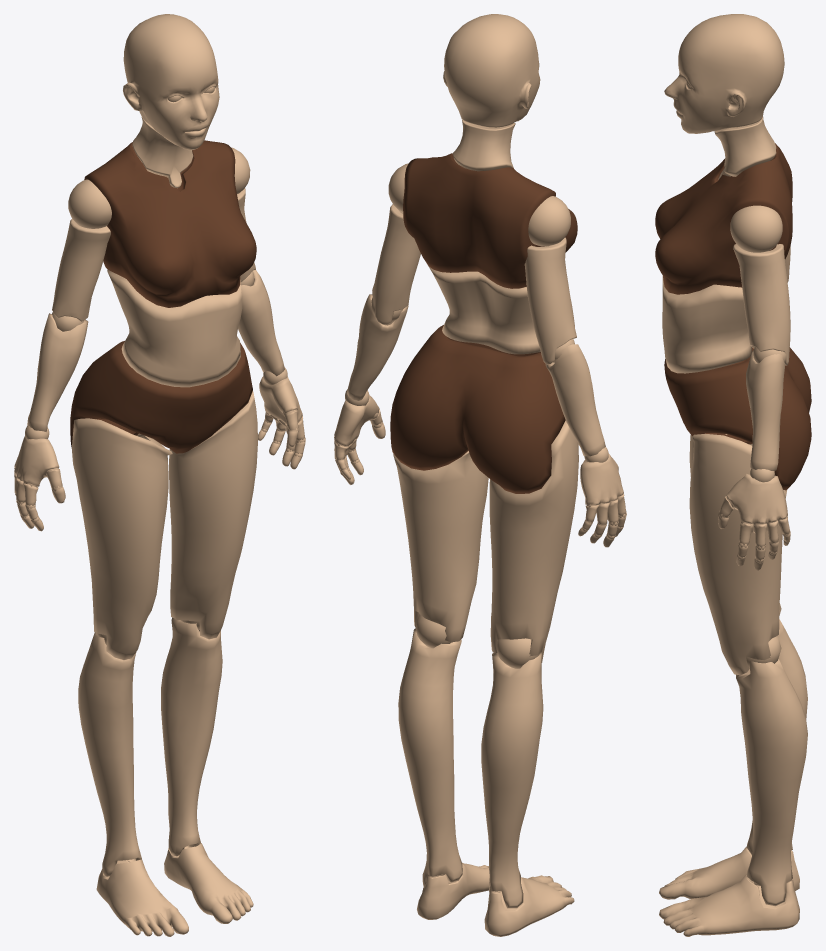
The model's file is paciente-bracos-laterais.glb.
3 views of the same model, side by side, from view 1: azimuth 30°, elevation 25°; view 2: azimuth 150°, elevation 25°; view 3: azimuth 270°, elevation 25° (orthographic).
Parts seen in each view (by area): view 1: bodychan-thighs.001, bodychan-shins.001, bodychan-torso.001, bodychan-hips.001, bodychan-head.001, bodychan-tummy.001, bodychan-feet.001, bodychan-upperarms.arm.R, bodychan-forearms.arm.R, bodychan-forearms.arm.L, bodychan-neck.001, bodychan-hands.arm.R (+2 smaller); view 2: bodychan-thighs.001, bodychan-shins.001, bodychan-hips.001, bodychan-torso.001, bodychan-head.001, bodychan-tummy.001, bodychan-upperarms.arm.R, bodychan-feet.001, bodychan-upperarms.arm.L, bodychan-forearms.arm.R, bodychan-forearms.arm.L, bodychan-neck.001 (+2 smaller); view 3: bodychan-thighs.001, bodychan-shins.001, bodychan-torso.001, bodychan-head.001, bodychan-hips.001, bodychan-feet.001, bodychan-tummy.001, bodychan-upperarms.arm.L, bodychan-forearms.arm.L, bodychan-hands.arm.L, bodychan-neck.001.
Part boxes in pixels (bbox=[...]): bodychan-thighs.001: bbox=[71, 391, 257, 659]; bodychan-shins.001: bbox=[78, 617, 222, 876]; bodychan-torso.001: bbox=[84, 140, 256, 307]; bodychan-hips.001: bbox=[70, 341, 252, 453]; bodychan-head.001: bbox=[123, 14, 219, 150]; bodychan-tummy.001: bbox=[107, 269, 242, 387]; bodychan-feet.001: bbox=[96, 843, 253, 936]; bodychan-upperarms.arm.R: bbox=[52, 179, 111, 321]; bodychan-forearms.arm.R: bbox=[27, 312, 88, 431]; bodychan-forearms.arm.L: bbox=[238, 270, 284, 376]; bodychan-neck.001: bbox=[132, 117, 193, 188]; bodychan-hands.arm.R: bbox=[14, 425, 59, 486]; bodychan-thighs.001: bbox=[393, 420, 578, 668]; bodychan-shins.001: bbox=[398, 628, 543, 908]; bodychan-hips.001: bbox=[390, 325, 565, 493]; bodychan-torso.001: bbox=[403, 153, 577, 288]; bodychan-head.001: bbox=[443, 14, 540, 127]; bodychan-tummy.001: bbox=[428, 266, 540, 354]; bodychan-upperarms.arm.R: bbox=[524, 196, 576, 364]; bodychan-feet.001: bbox=[417, 862, 574, 936]; bodychan-upperarms.arm.L: bbox=[372, 163, 420, 324]; bodychan-forearms.arm.R: bbox=[545, 339, 605, 456]; bodychan-forearms.arm.L: bbox=[347, 294, 408, 400]; bodychan-neck.001: bbox=[452, 120, 515, 171]; bodychan-thighs.001: bbox=[689, 433, 786, 675]; bodychan-shins.001: bbox=[736, 619, 807, 906]; bodychan-torso.001: bbox=[655, 143, 792, 294]; bodychan-head.001: bbox=[664, 14, 784, 133]; bodychan-hips.001: bbox=[664, 347, 811, 490]; bodychan-feet.001: bbox=[659, 846, 799, 936]; bodychan-tummy.001: bbox=[662, 275, 752, 373]; bodychan-upperarms.arm.L: bbox=[730, 205, 790, 365]; bodychan-forearms.arm.L: bbox=[746, 347, 786, 470]; bodychan-hands.arm.L: bbox=[726, 468, 787, 523]; bodychan-neck.001: bbox=[714, 116, 776, 179].
Size of the model in its own units: 0.5629 by 1.69 by 0.2694.
